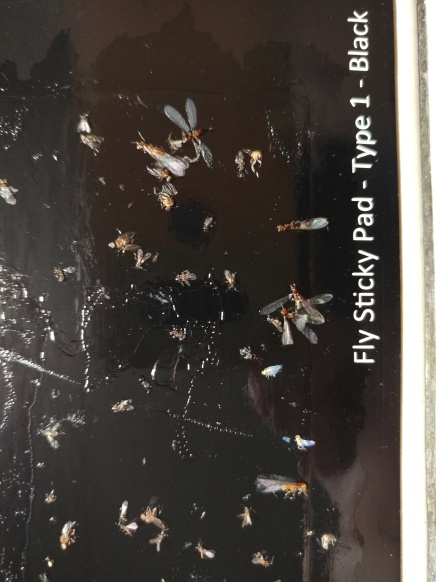flying termite: (166, 95, 224, 168), (129, 134, 185, 178), (255, 468, 311, 504), (273, 209, 330, 239)
